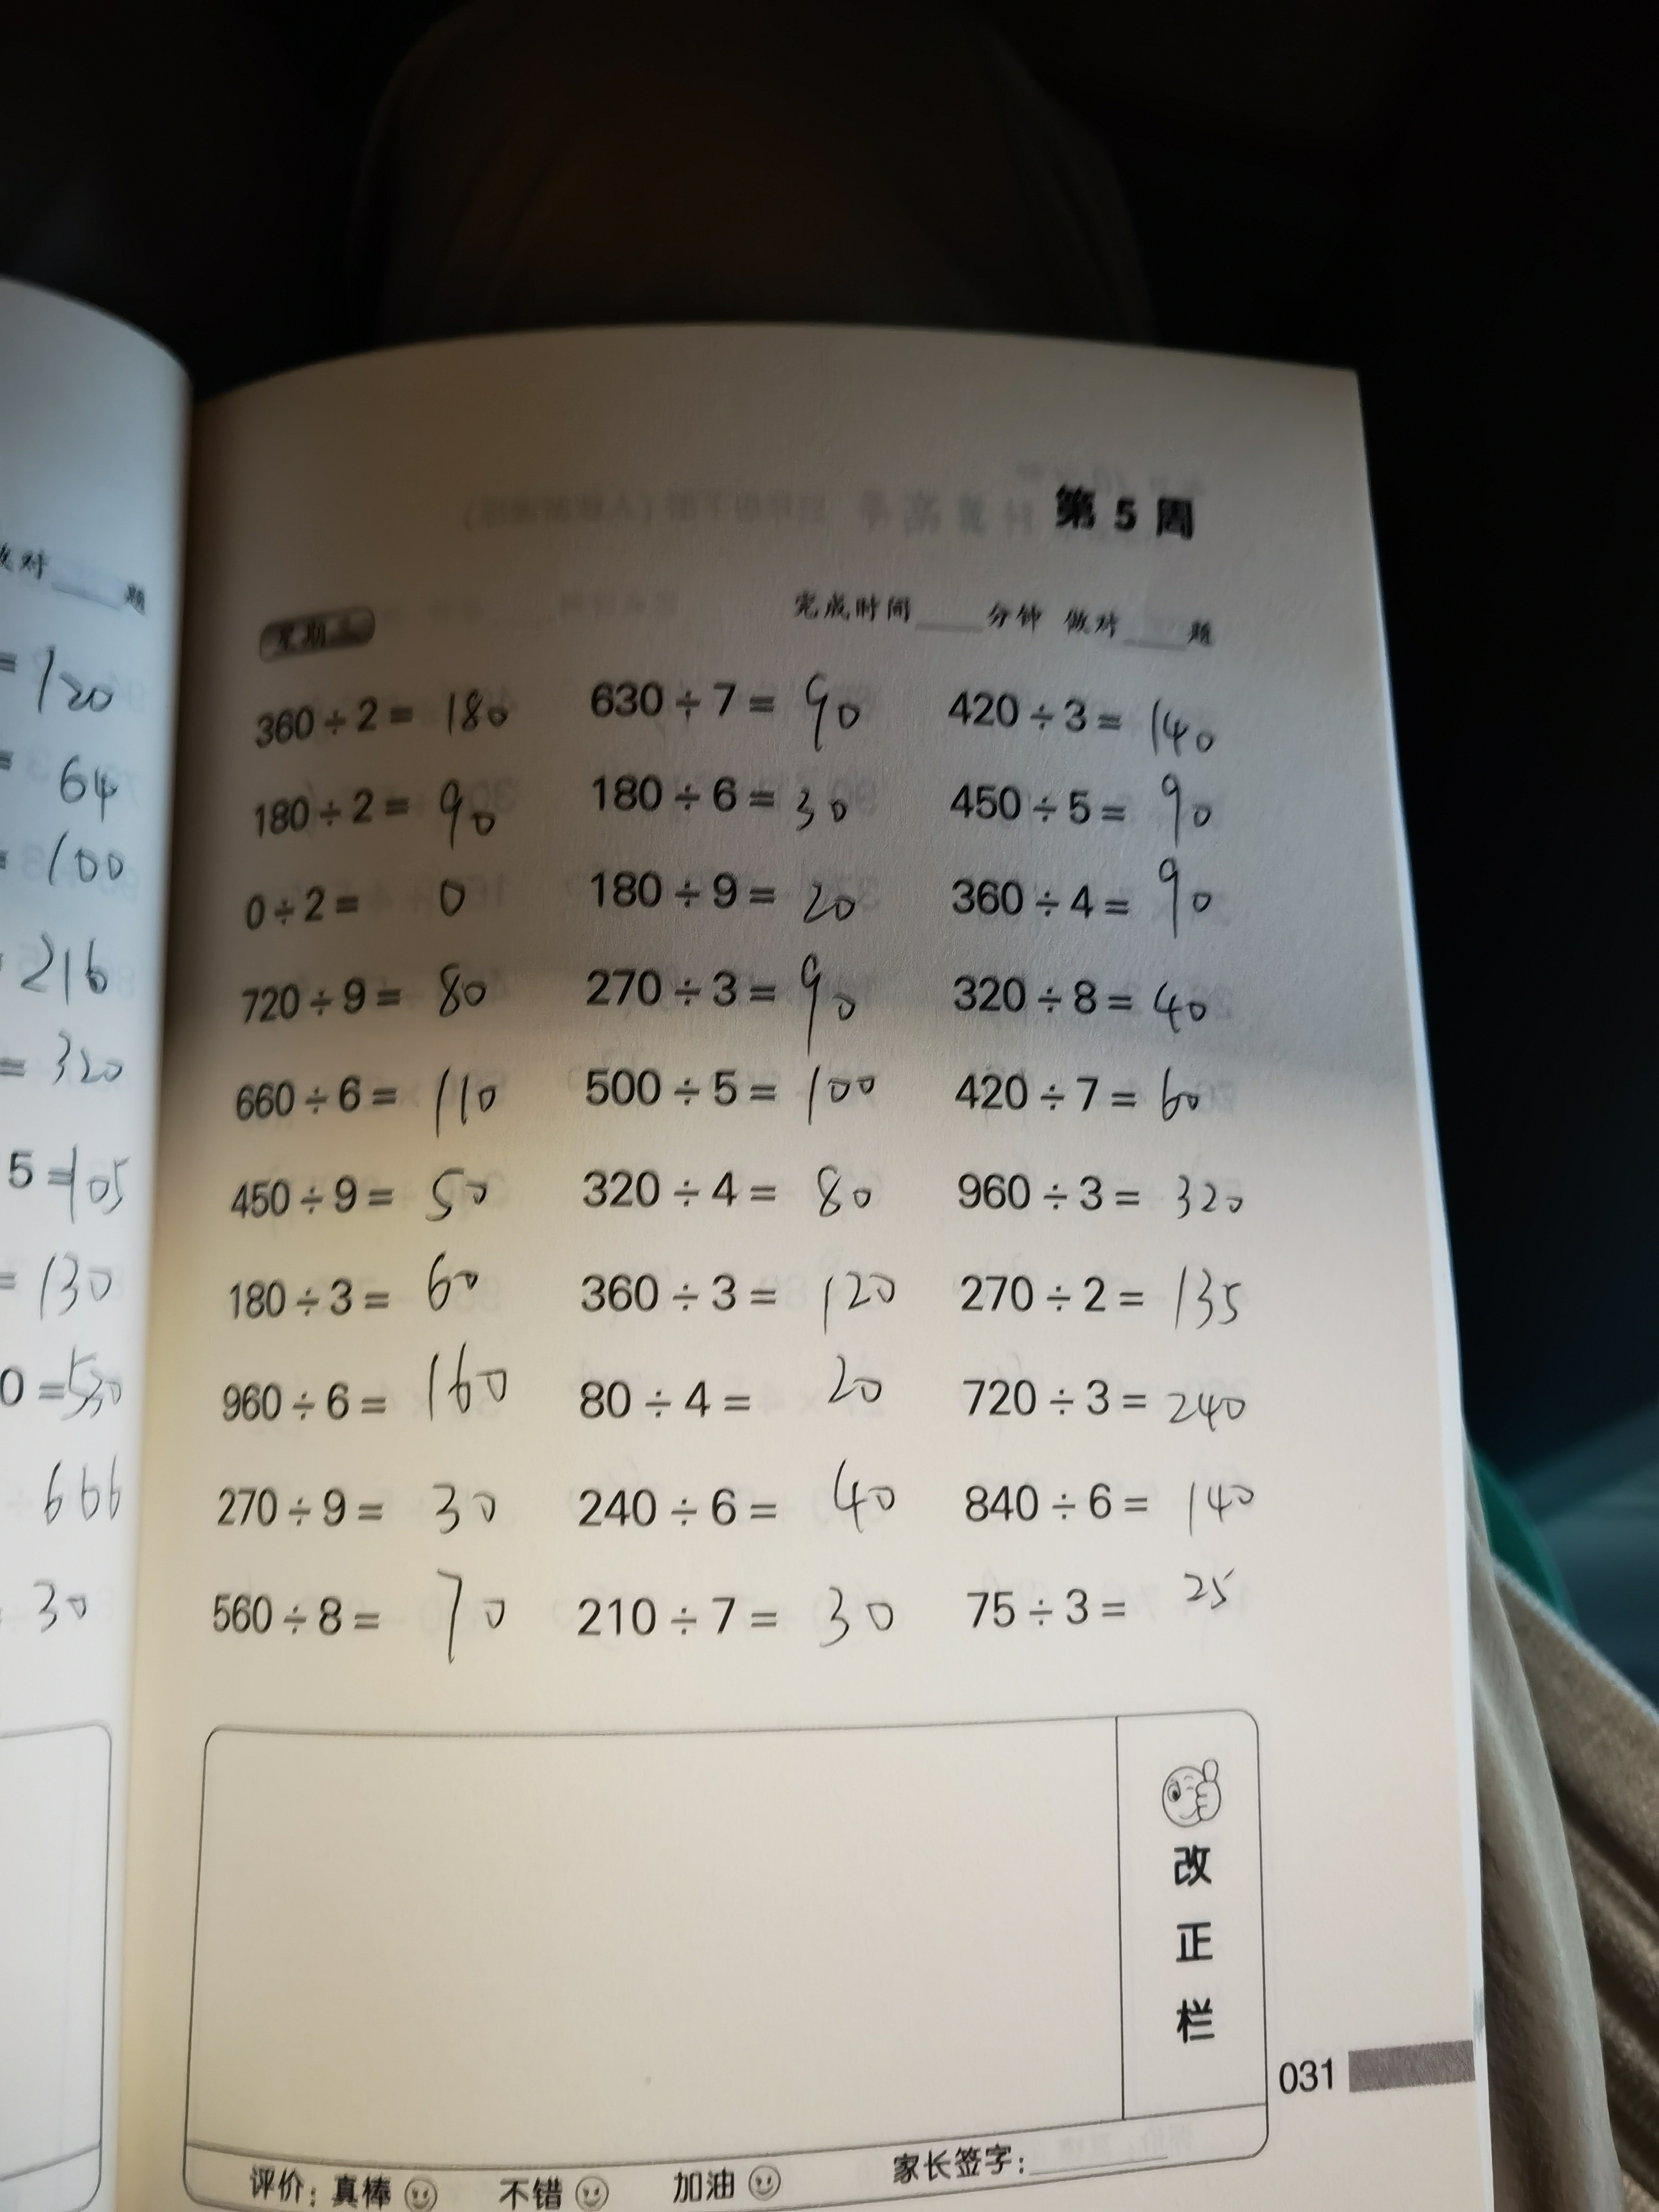equation: (551, 1035, 897, 1130), (953, 1447, 1300, 1541), (929, 1352, 1263, 1442), (953, 1554, 1269, 1649), (152, 1566, 512, 1649), (558, 1573, 922, 1655), (575, 834, 873, 934), (943, 664, 1234, 765), (573, 1254, 903, 1343), (225, 1043, 511, 1144), (577, 1461, 899, 1550), (953, 1057, 1284, 1143), (565, 669, 873, 759), (943, 866, 1284, 946), (572, 1343, 897, 1426), (202, 1346, 521, 1428), (591, 953, 880, 1038), (941, 1155, 1295, 1224), (228, 1454, 504, 1543), (582, 1151, 880, 1230), (953, 1252, 1281, 1320), (951, 958, 1248, 1033), (951, 763, 1244, 836), (579, 765, 870, 838), (230, 786, 526, 853), (193, 1258, 502, 1320), (237, 685, 530, 747), (237, 960, 507, 1024), (221, 1169, 493, 1228), (247, 878, 488, 930)
